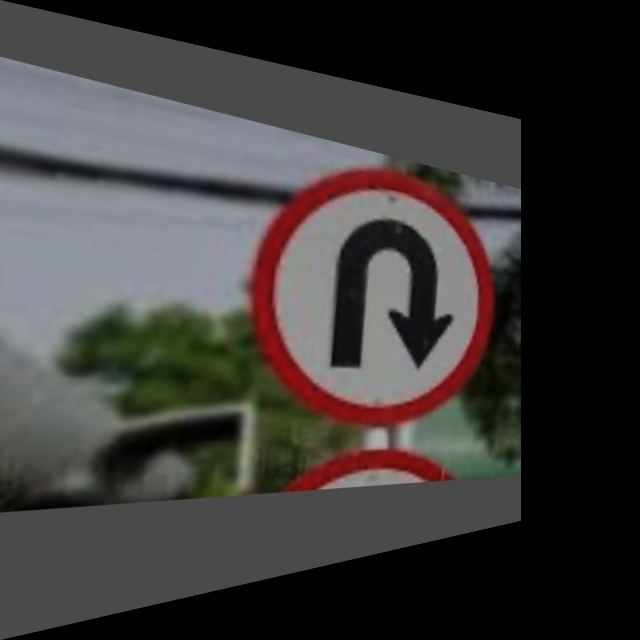U_Turn_Ahead: (243, 147, 499, 435)
